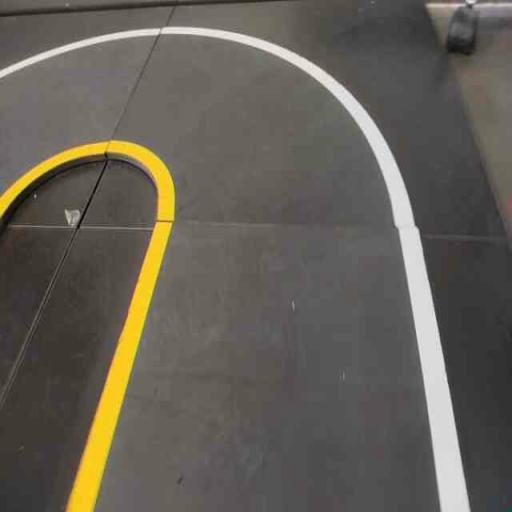left: (75, 11, 441, 230)
